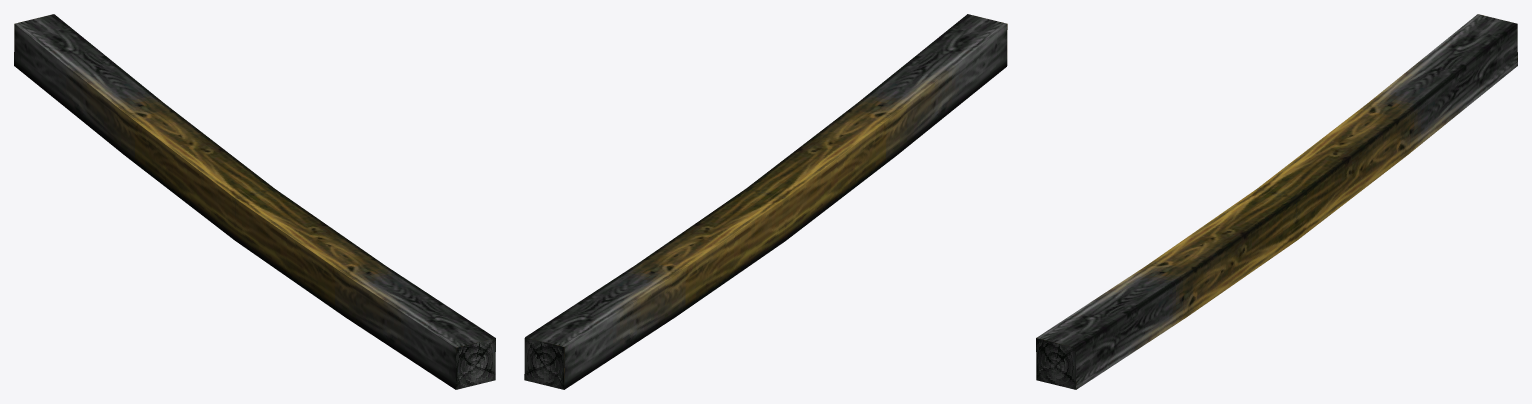
The model's file is CB_BOARD1.fbx.
The picture shows the model from 3 angles, left to right: view 1: azimuth 30°, elevation 25°; view 2: azimuth 150°, elevation 25°; view 3: azimuth 330°, elevation 25°; orthographic projection.
Visible parts, largest first — view 1: CB_BOARD1; view 2: CB_BOARD1; view 3: CB_BOARD1.
Part boxes in pixels (x1=…): CB_BOARD1: x1=14, y1=14, x2=495, y2=389; CB_BOARD1: x1=524, y1=14, x2=1007, y2=389; CB_BOARD1: x1=1036, y1=14, x2=1517, y2=389.
Bounding box in the file's own units: 7515 × 10038 × 144767.
2 materials, 2 textured.
